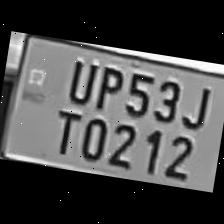0: (75, 110, 111, 163)
1: (134, 122, 167, 176)
2: (159, 126, 200, 184), (104, 116, 142, 170)
3: (148, 72, 184, 125)
5: (116, 65, 156, 119)
J: (177, 78, 215, 132)
P: (89, 60, 125, 113)
T: (44, 104, 84, 158)
U: (59, 54, 98, 107)
